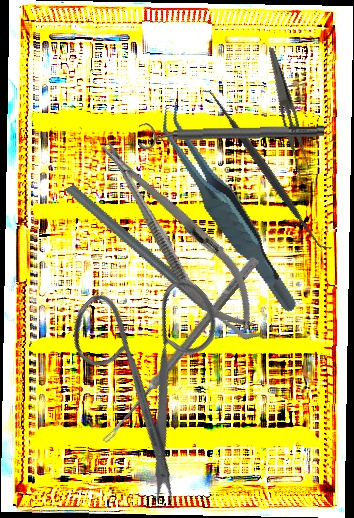Chopper: (63, 139, 262, 385)
Dressing Forceps: (253, 45, 319, 182)
Fixation Ring: (138, 117, 325, 151)
Iris Scissors: (20, 238, 295, 513)
Needle Holder: (84, 126, 273, 345)
Spatula Surgical: (199, 80, 334, 260)
Surgical Spoon: (101, 254, 260, 447)
Tissue Forceps: (154, 85, 300, 332)
